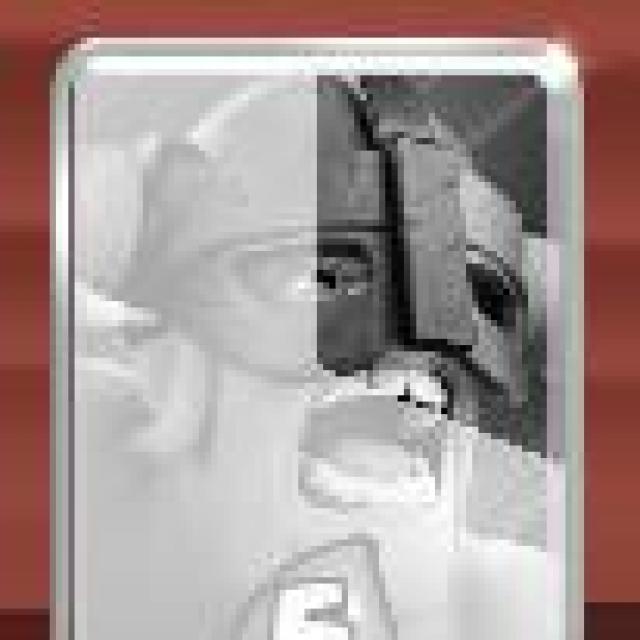Elite_Barbarians: (46, 39, 587, 640)
